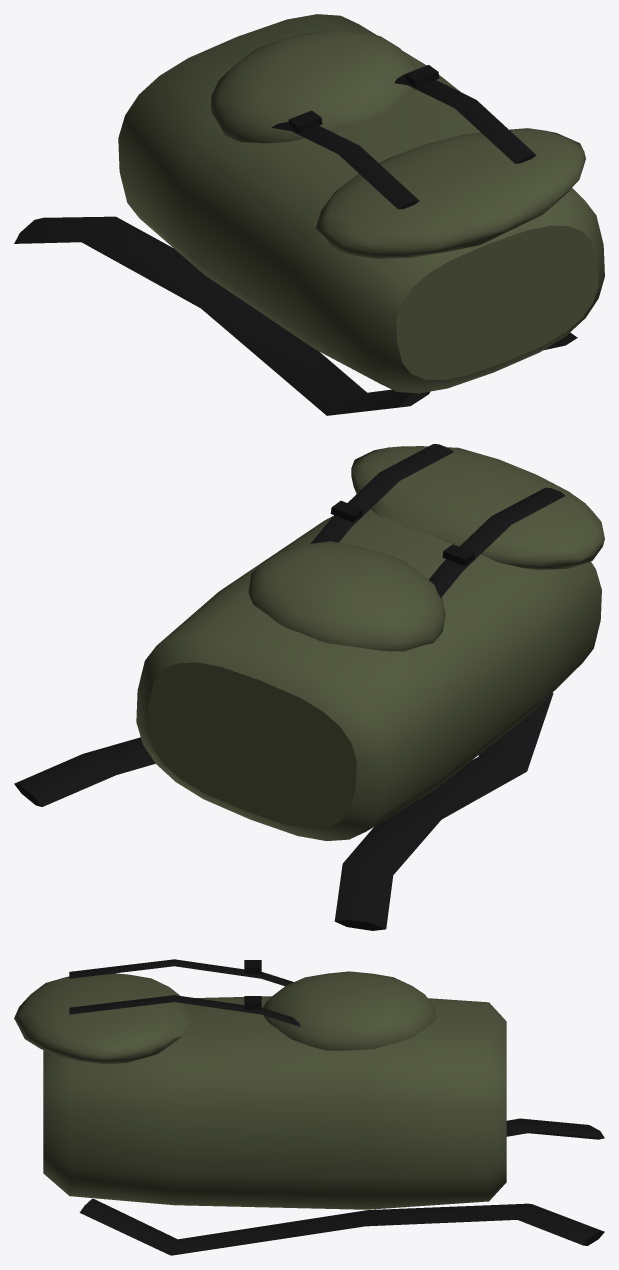
File: backpack_dropped.glb
The picture shows the model from 3 angles, top to bottom: view 1: azimuth 30°, elevation 25°; view 2: azimuth 150°, elevation 25°; view 3: azimuth 270°, elevation 25°; orthographic projection. The views are drawn at different scales.
Visible parts, largest first — view 1: backpack_dropped; view 2: backpack_dropped; view 3: backpack_dropped.
Part boxes in pixels (x1=…): backpack_dropped: x1=14, y1=14, x2=604, y2=415; backpack_dropped: x1=14, y1=444, x2=604, y2=930; backpack_dropped: x1=14, y1=959, x2=604, y2=1255.
Bounding box in the file's own units: 0.4614 × 0.318 × 0.6761.
